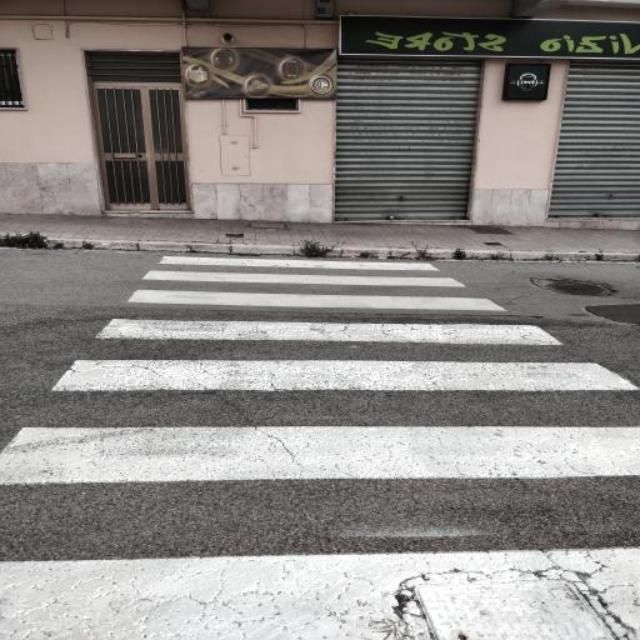sidewalk: (0, 253, 640, 640)
